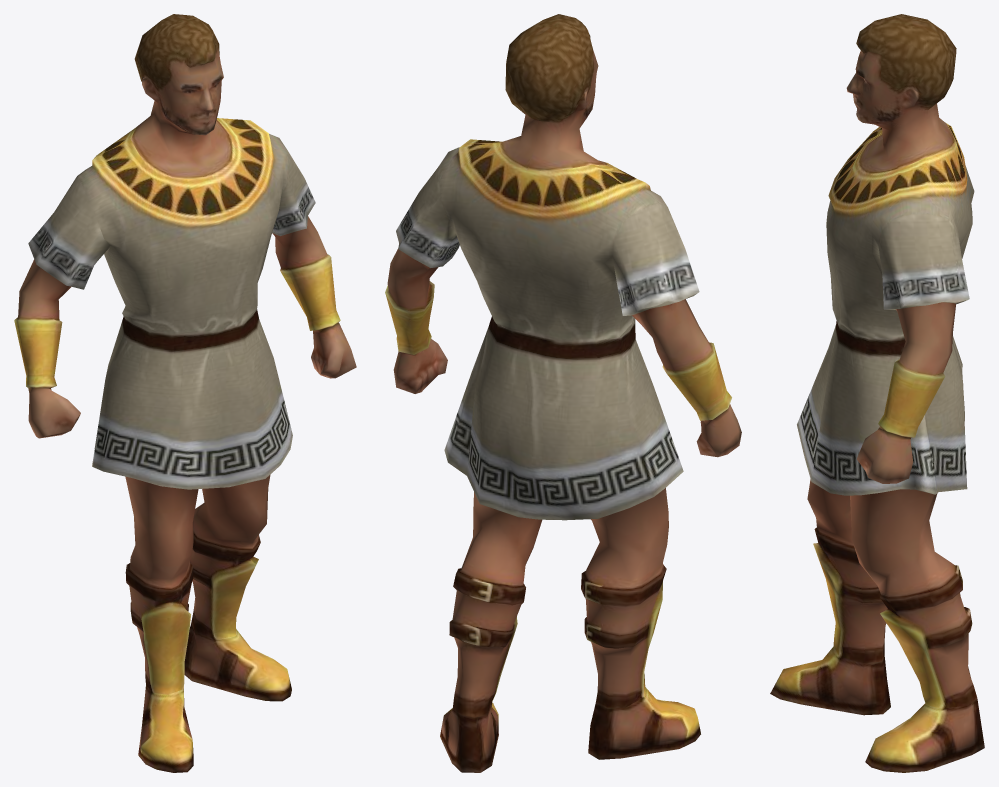
Rendered from body-base.glb.
The picture shows the model from 3 angles, left to right: view 1: azimuth 30°, elevation 25°; view 2: azimuth 150°, elevation 25°; view 3: azimuth 270°, elevation 25°; orthographic projection. The views are drawn at different scales.
Bounding box in the file's own units: 1 × 2.07 × 0.5703.
1 material, 1 textured.
